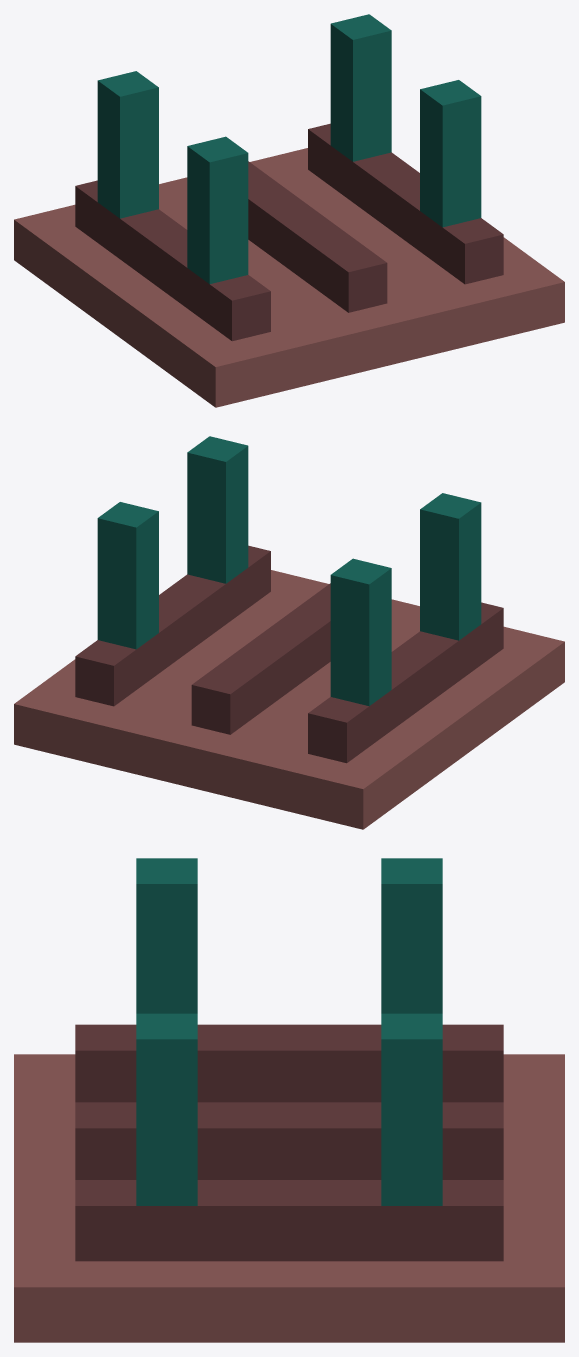
The model's file is Corn 1.obj.
The picture shows the model from 3 angles, top to bottom: view 1: azimuth 30°, elevation 25°; view 2: azimuth 150°, elevation 25°; view 3: azimuth 270°, elevation 25°; orthographic projection. The views are drawn at different scales.
Bounding box in the file's own units: 0.9 × 0.5 × 0.9.
1 material, 1 textured.
